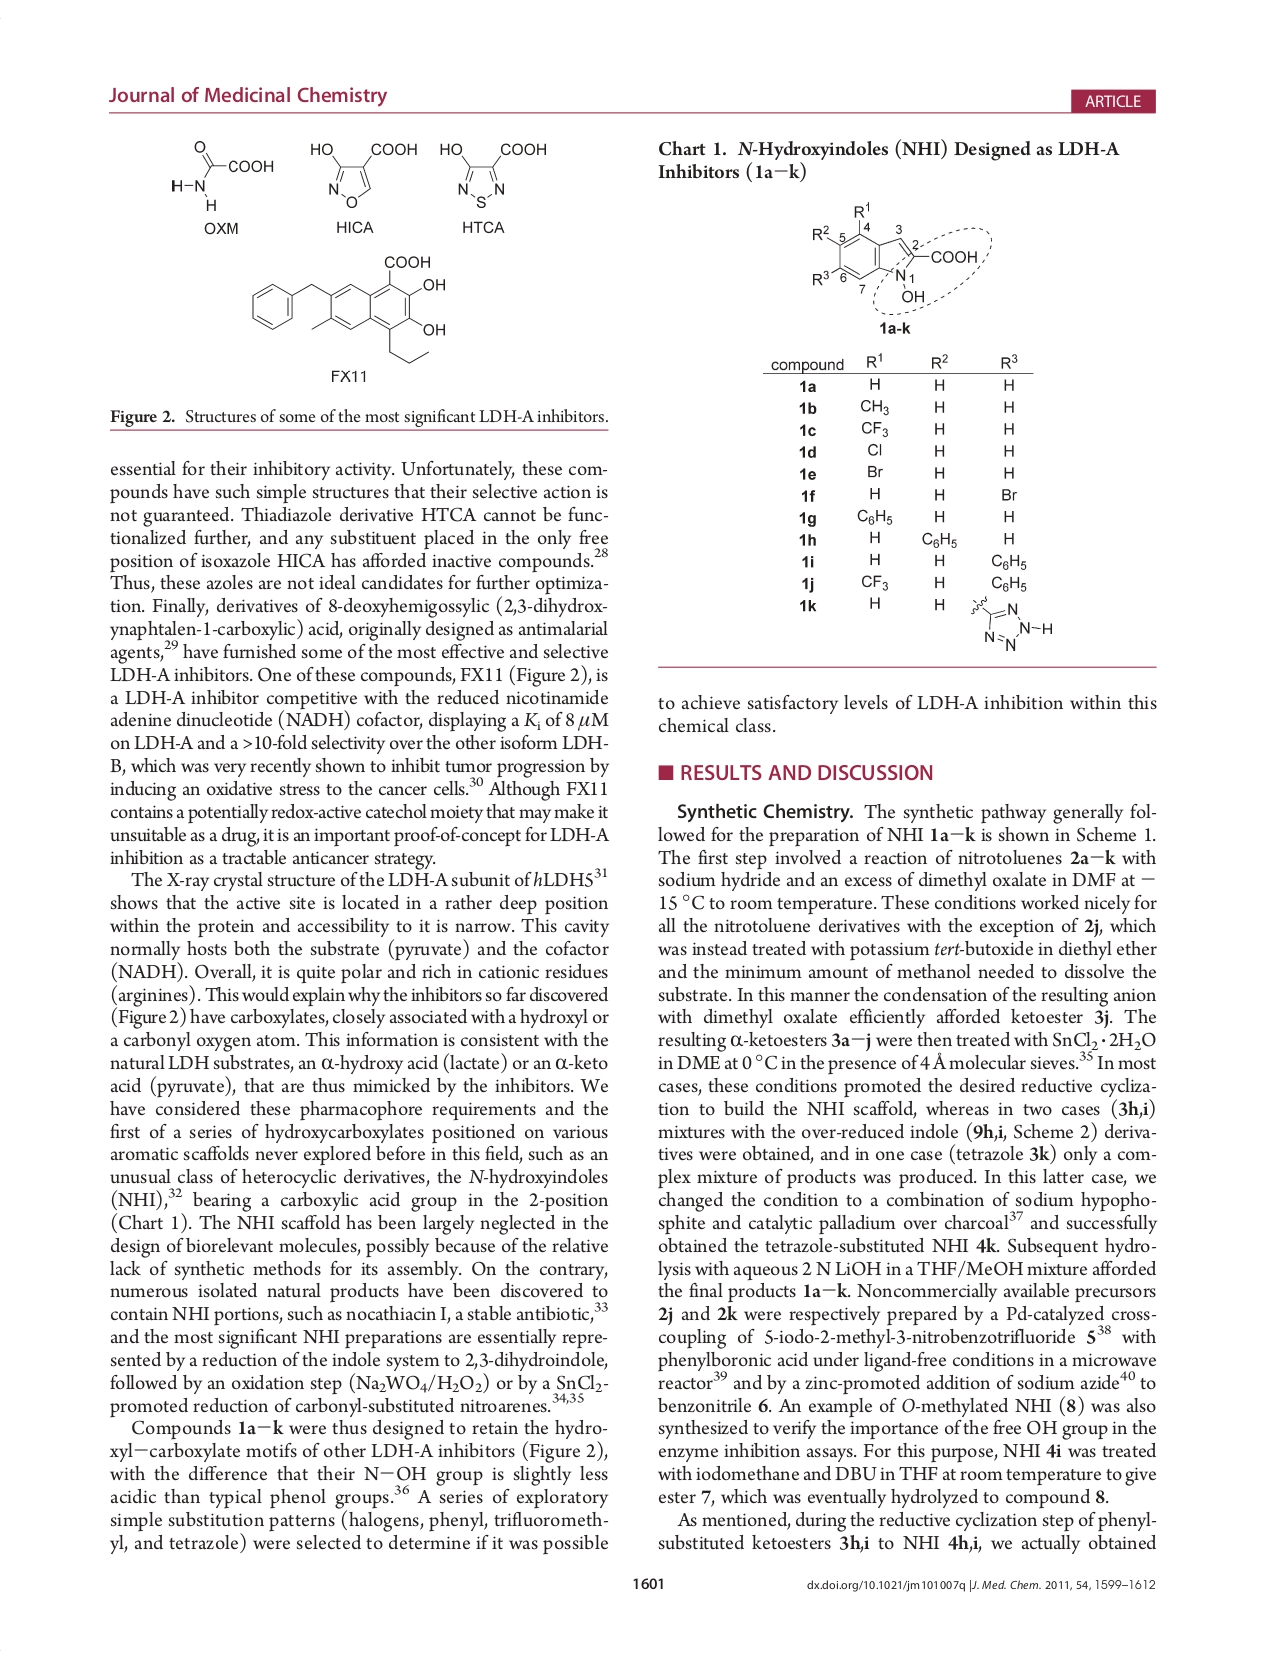exist_molecular: (245, 251, 449, 364), (807, 195, 985, 306), (435, 133, 551, 211), (307, 132, 419, 211), (168, 137, 279, 211), (968, 592, 1060, 654)
